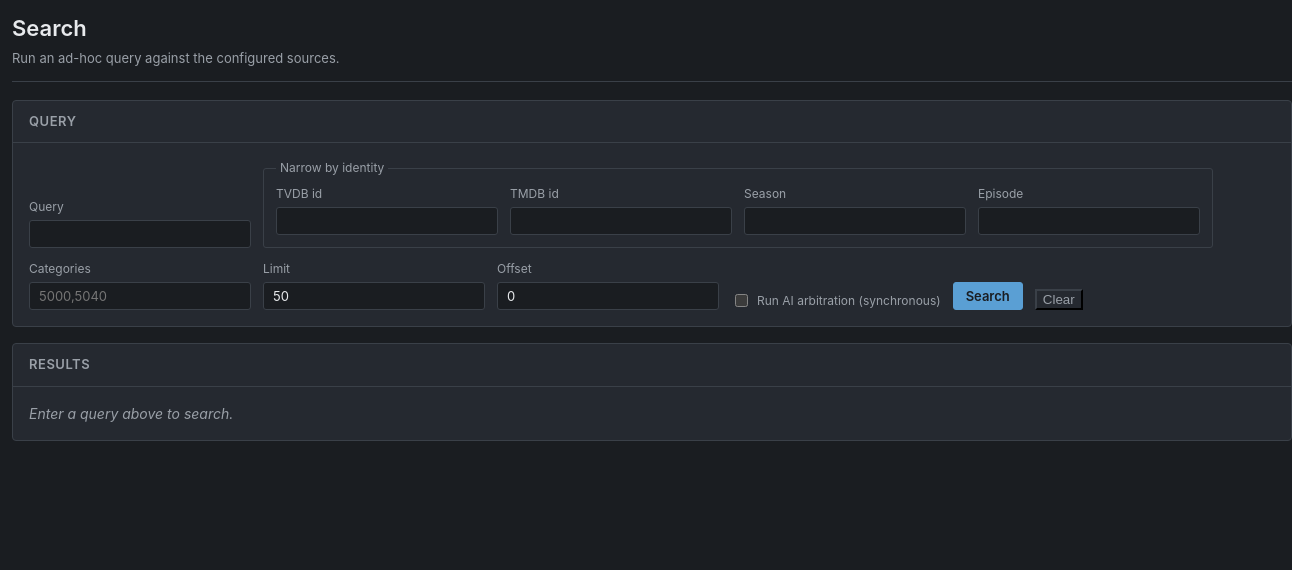
Test: Search › renders results and provenance from the fetched data
In the field labelled "Query": (140, 234) [29,220,251,248], type "some series"
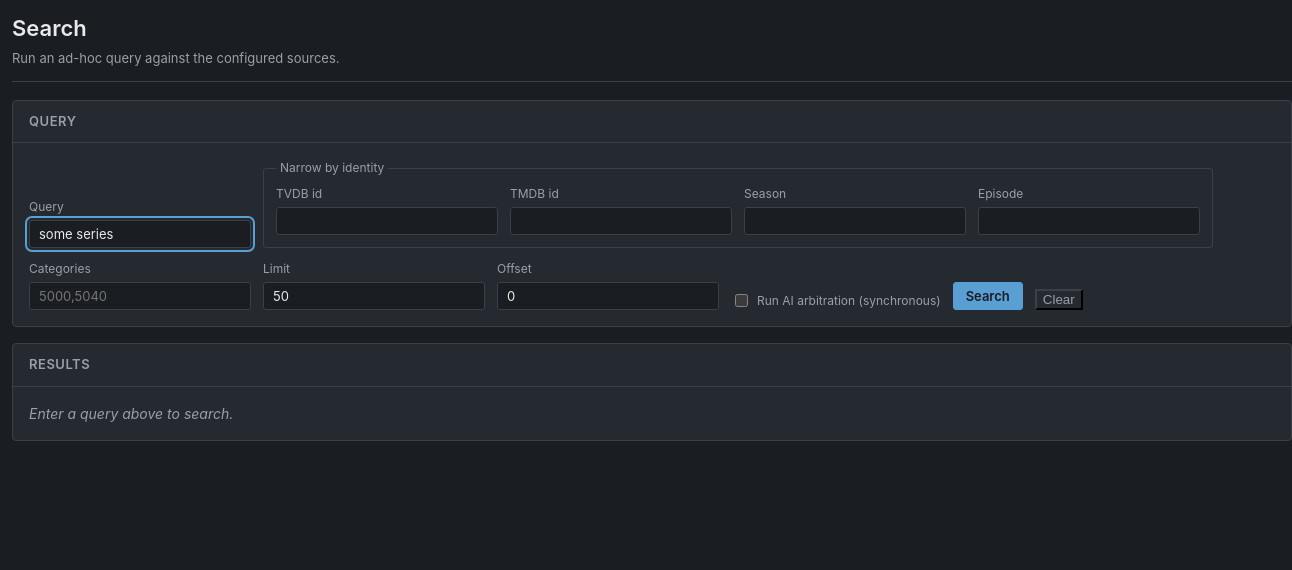
Click the button "Search": (988, 296) [953,282,1023,310]
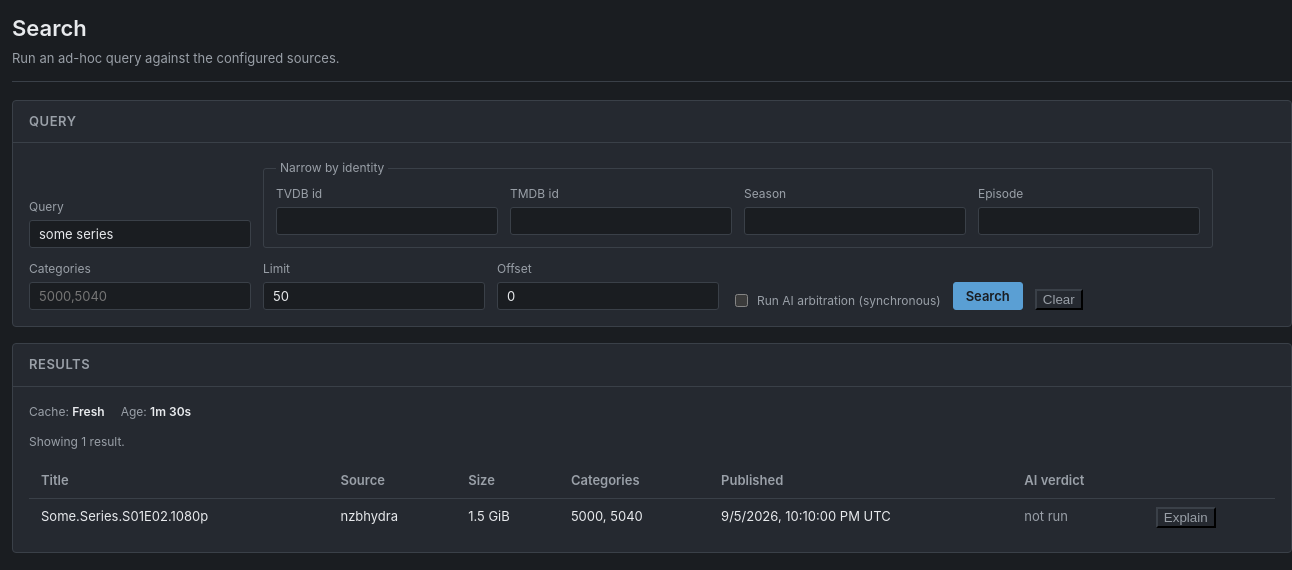
Check: the text "Some.Series.S01E02.1080p" is shown, box [29,498,328,536]
Check: the text "1.5 GiB" is shown, box [456,498,559,536]
Check: the text "5000, 5040" is shown, box [559,498,709,536]
